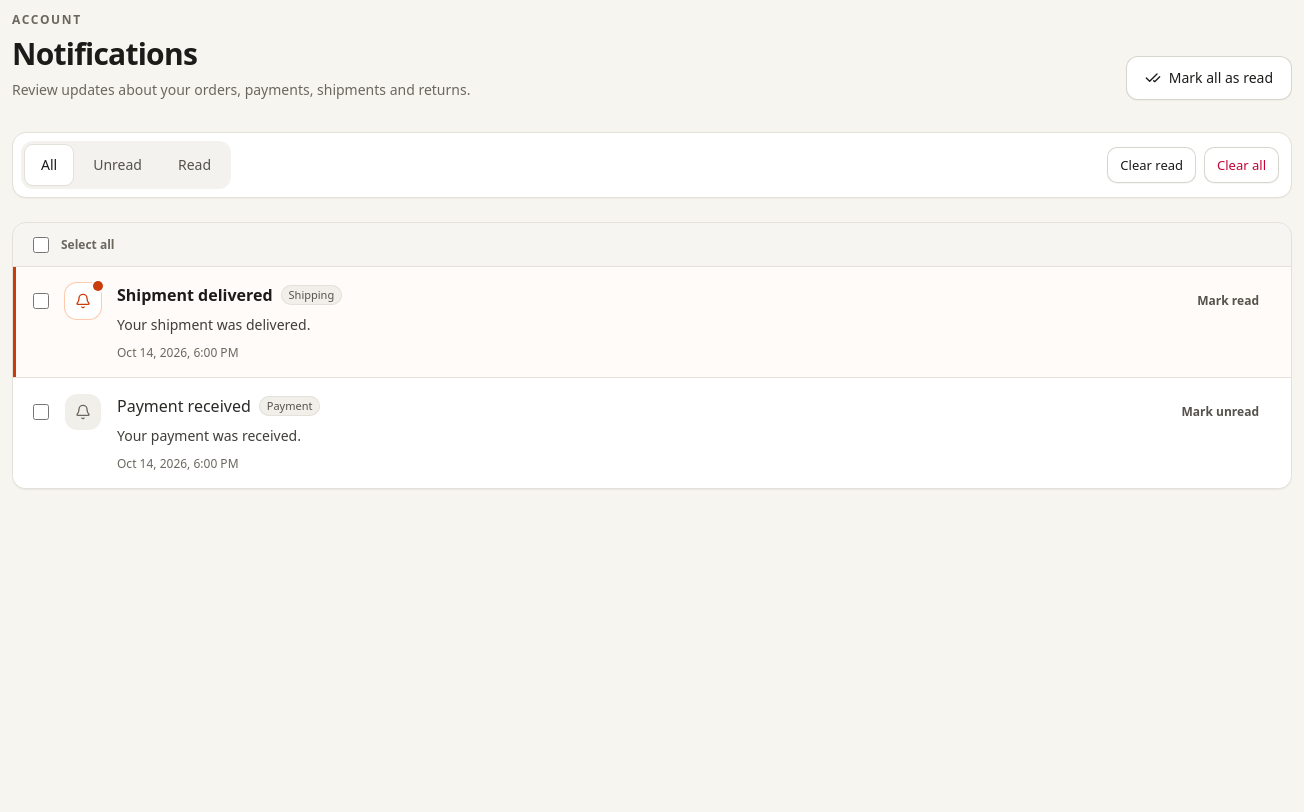
Test: NotificationCenter › toggles one notification to unread
Check: the heading "Payment received" is shown, box [117,394,251,418]
Click the button "Mark unread": (1220, 412) [1170,394,1271,430]
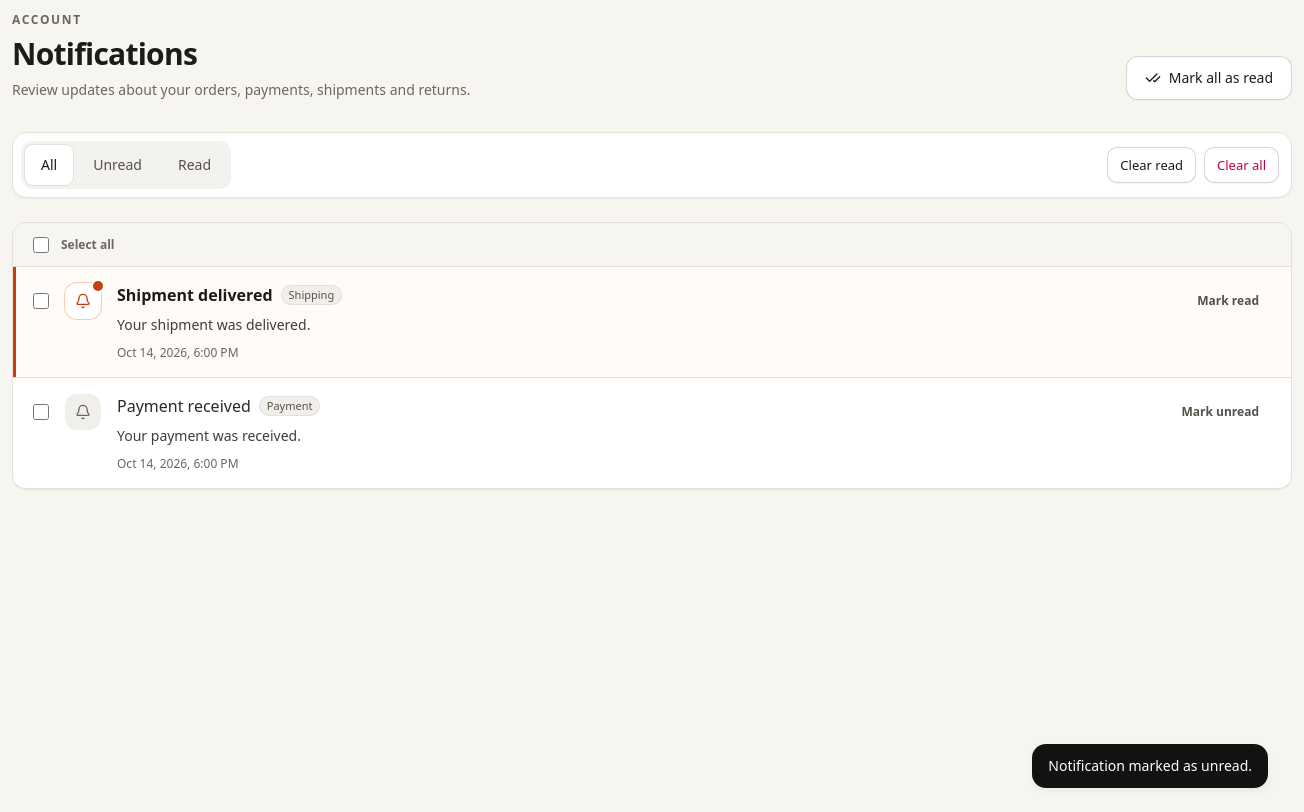
Check: the message reads "Notification marked as unread.", box [1048,756,1252,775]
